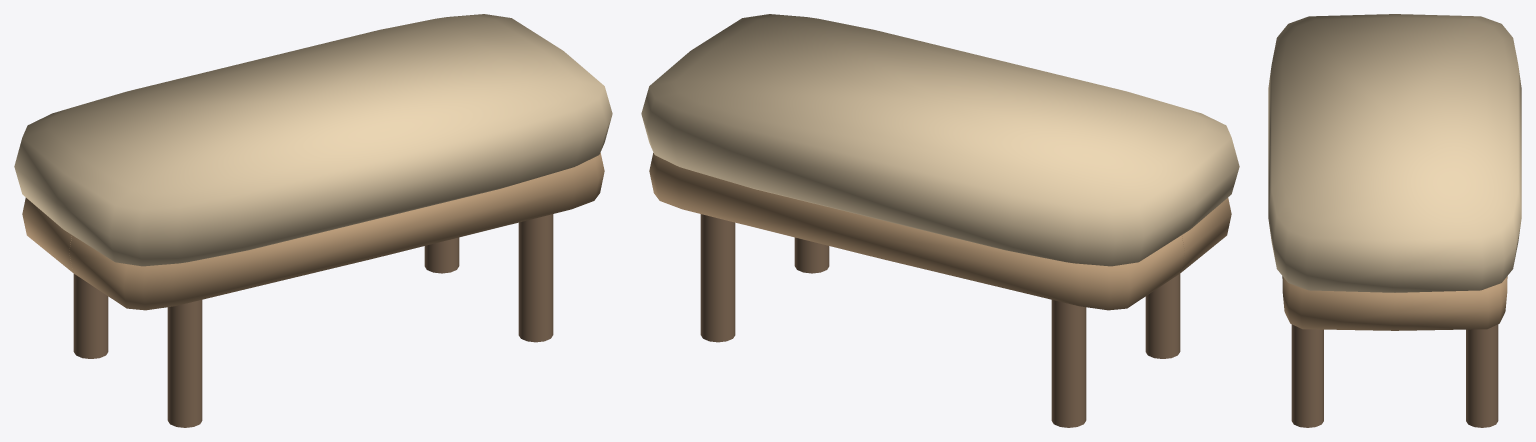
File: shoe_bench_820x380.glb
3 views of the same model, side by side, from view 1: azimuth 30°, elevation 25°; view 2: azimuth 150°, elevation 25°; view 3: azimuth 270°, elevation 25° (orthographic). The views are drawn at different scales.
Visible parts, largest first — view 1: bench_cushion, wood_seat_base, round_bench_leg (×4); view 2: bench_cushion, wood_seat_base, round_bench_leg (×4); view 3: bench_cushion, wood_seat_base, round_bench_leg (×2).
Boxes of the visible parts, x1,y1,x2,y2 form: bench_cushion: (14,14,612,266); wood_seat_base: (22,153,604,310); round_bench_leg (×4): (73,214,553,427); bench_cushion: (641,14,1239,266); wood_seat_base: (649,153,1231,310); round_bench_leg (×4): (700,214,1180,427); bench_cushion: (1268,14,1521,292); wood_seat_base: (1282,276,1507,330); round_bench_leg (×2): (1291,324,1498,427).
Size of the model in its own units: 0.82 by 0.37 by 0.378.
